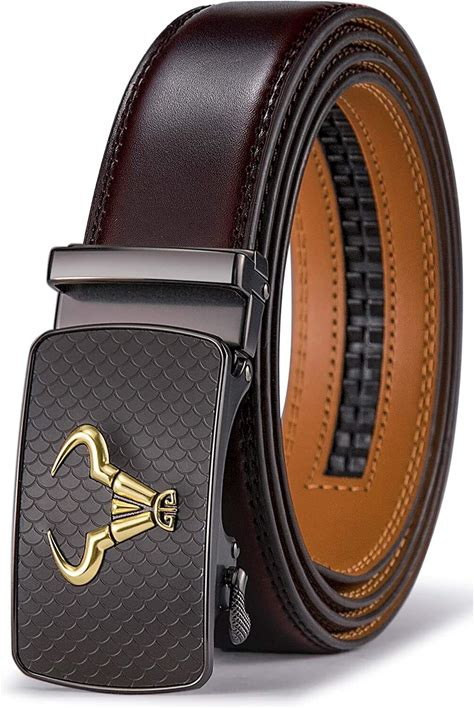cuero: (82, 1, 464, 655)
